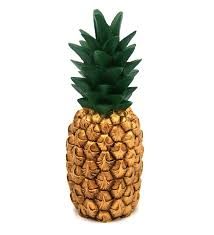pineapple: (65, 106, 142, 223)
